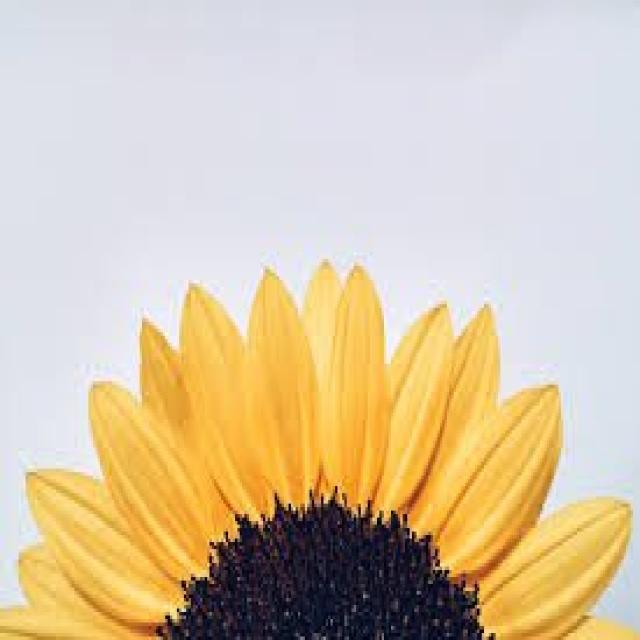sunflower: (0, 256, 638, 636)
